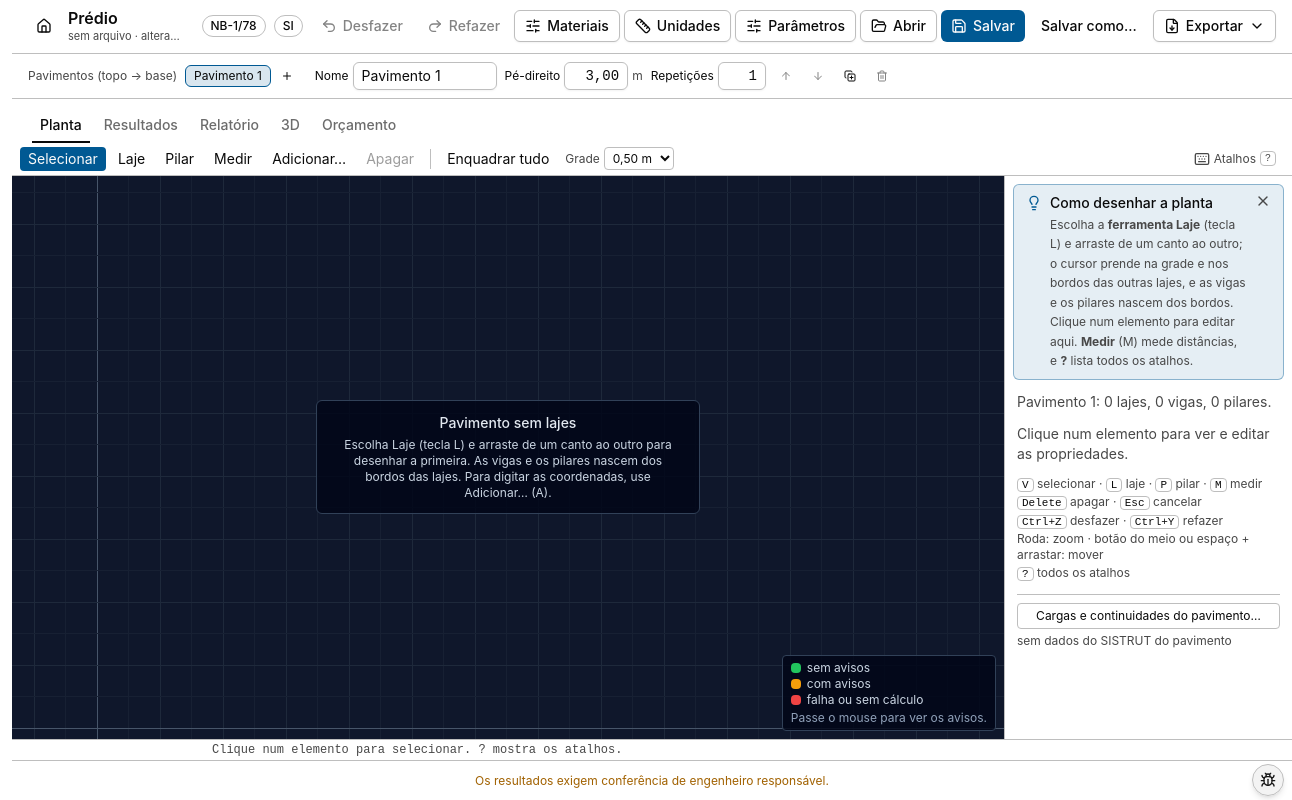
Test: barra de pavimentos › campo com texto inválido não passa para outro pavimento ao trocar o ativo
Click the button named "Novo pavimento".
click(287, 76)  # box x1=275 y1=64 x2=299 y2=88
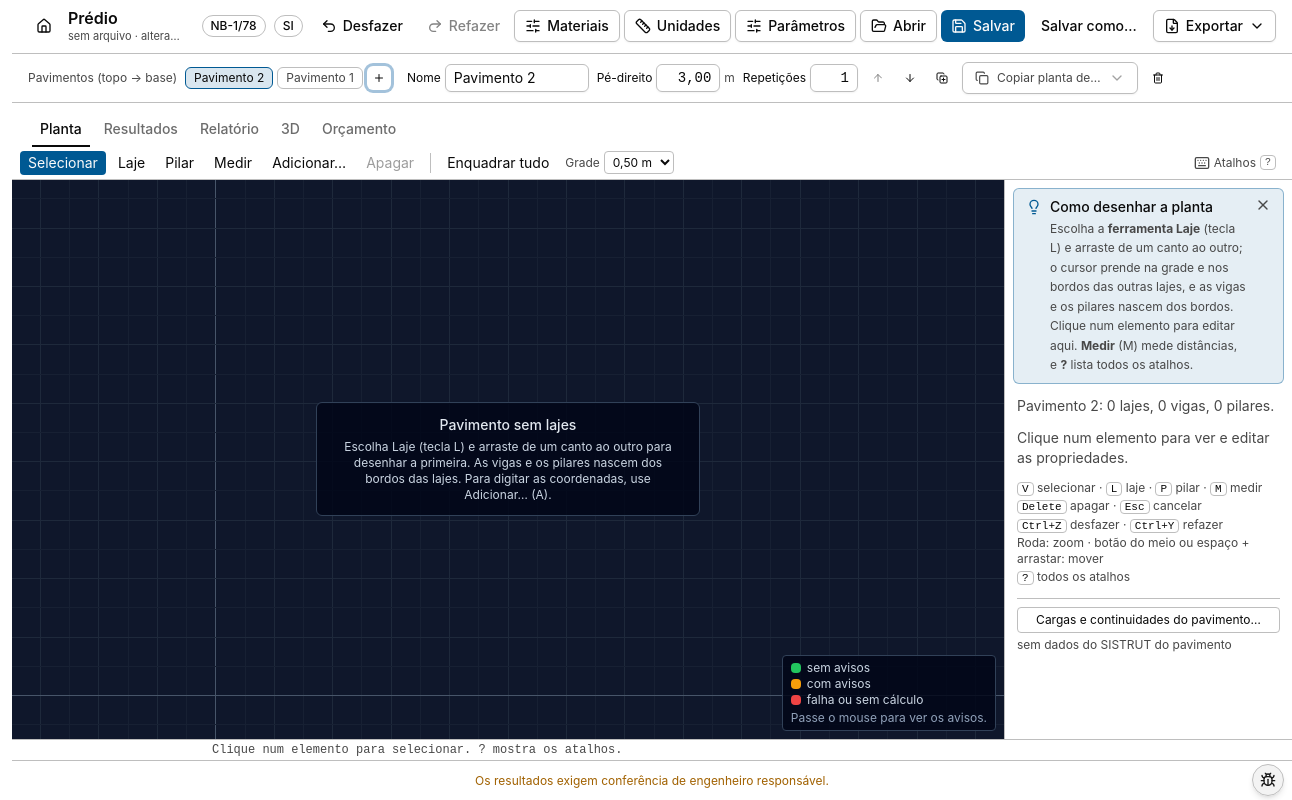
Replace the text in the field labelled "Pé-direito" with "abc" at [688, 78], box x1=656 y1=64 x2=720 y2=92
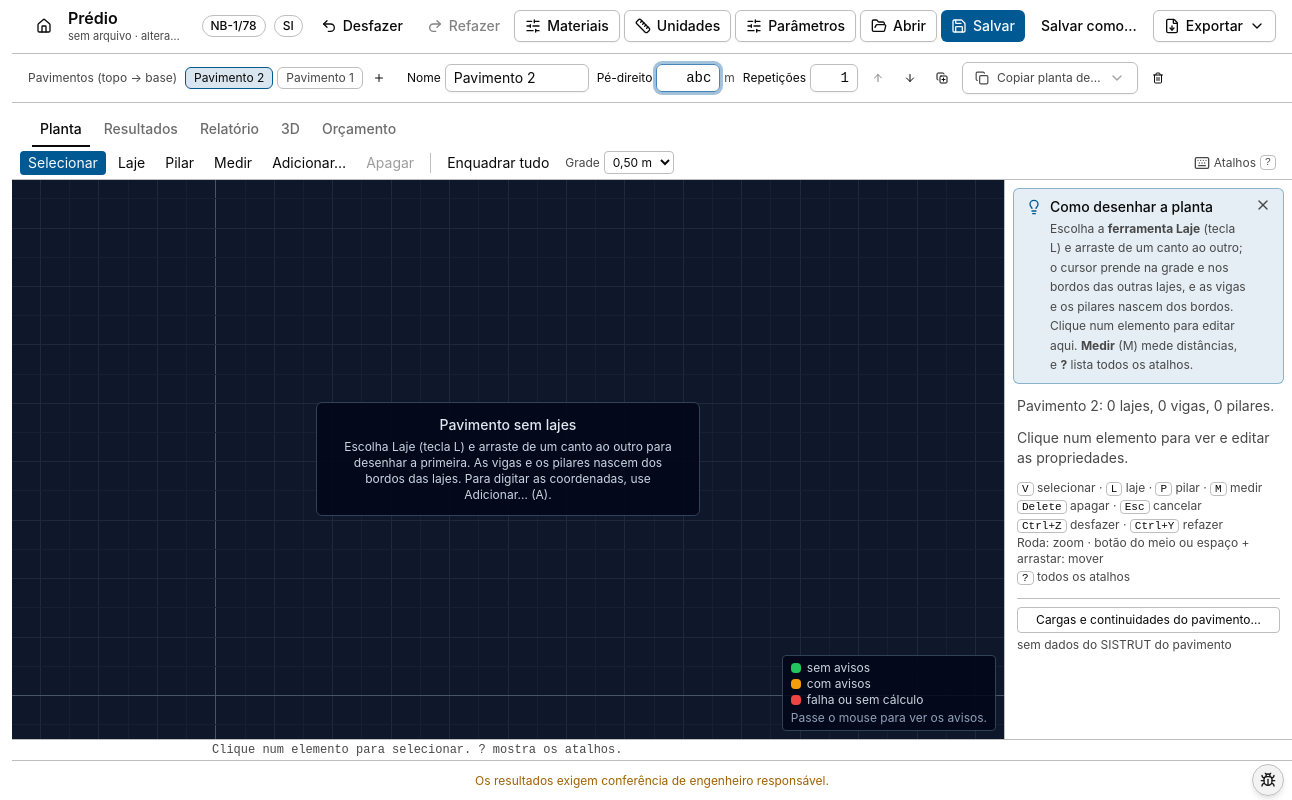
Click the button "Pavimento 1".
click(320, 78)  # box x1=277 y1=66 x2=363 y2=88
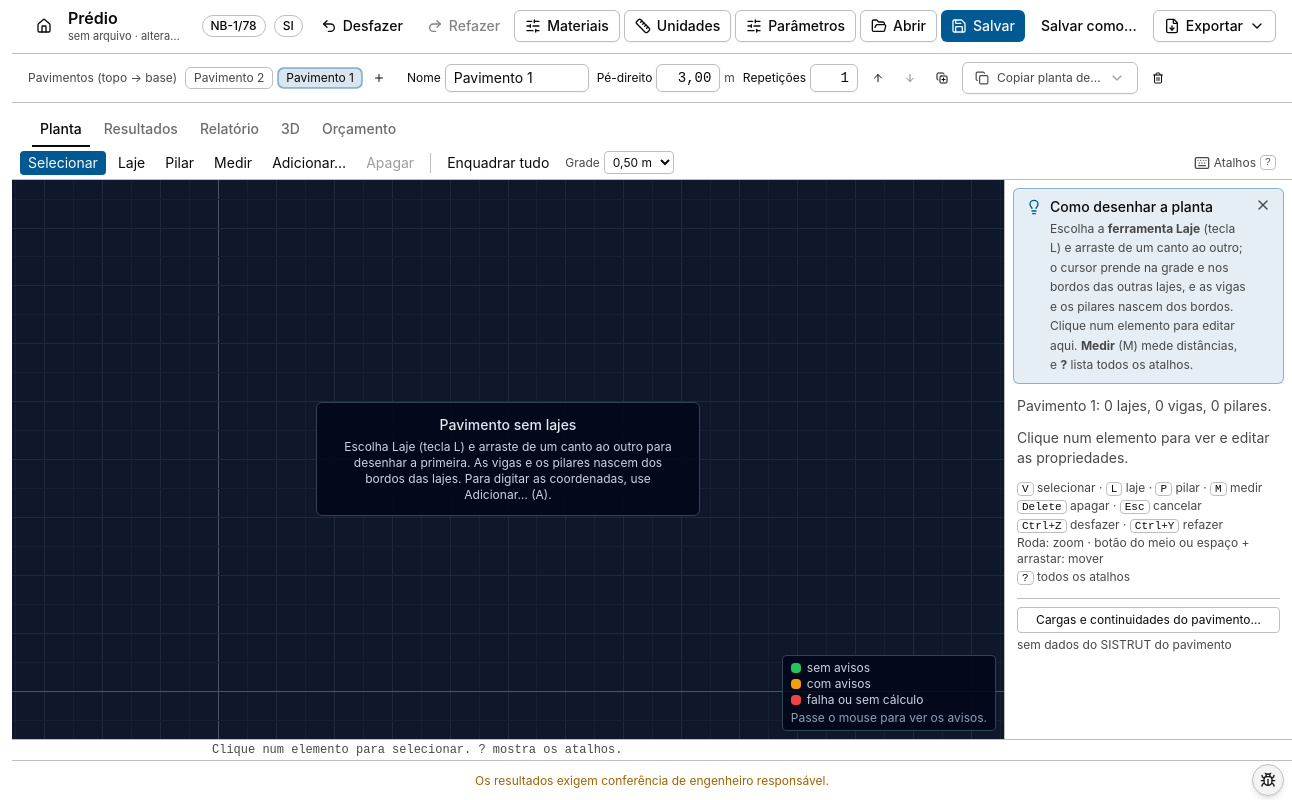
Expected: the field labelled "Pé-direito" holds "3,00", x1=656 y1=64 x2=720 y2=92
